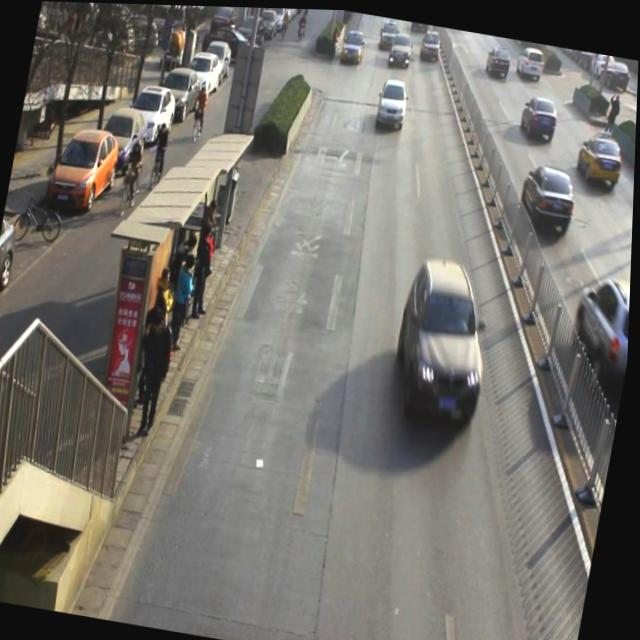car: (384, 253, 506, 435), (571, 272, 632, 384), (516, 159, 580, 234), (574, 128, 630, 189), (372, 74, 415, 133), (520, 93, 561, 138), (515, 41, 548, 84), (386, 29, 414, 72), (485, 44, 515, 80), (340, 27, 367, 65), (420, 27, 443, 61), (377, 16, 399, 51)
truck: (408, 19, 430, 29)
